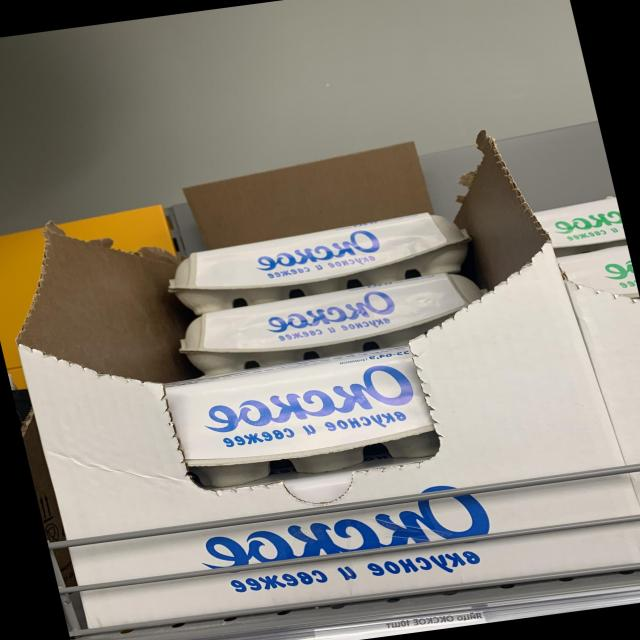organic waste: (160, 342, 440, 491), (153, 205, 486, 314), (167, 269, 492, 377), (531, 192, 627, 258), (558, 242, 640, 309)
